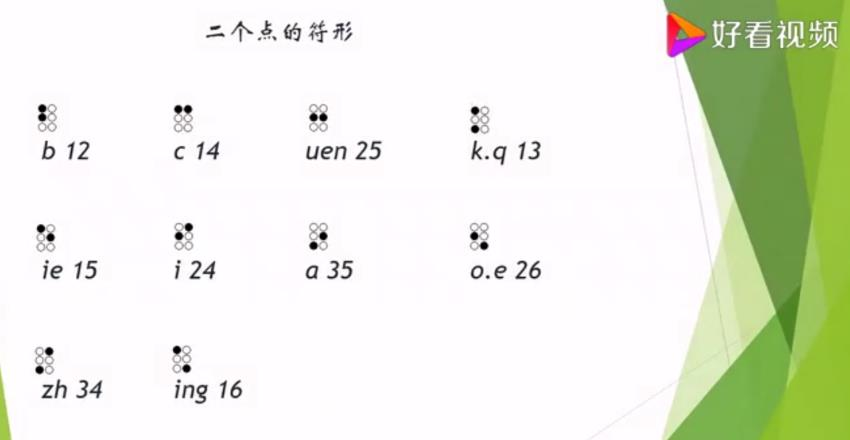Braille: (34, 346, 56, 376), (36, 223, 57, 253), (172, 345, 193, 375), (470, 105, 491, 135), (469, 222, 490, 252), (37, 104, 58, 133), (173, 104, 194, 133), (308, 103, 329, 132), (308, 222, 329, 251), (174, 222, 194, 252)
